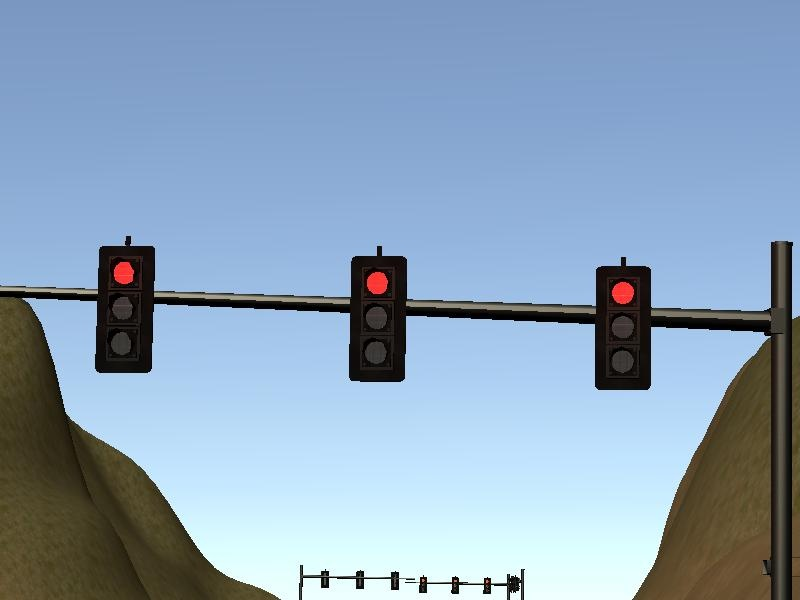RED: (95, 245, 154, 372), (347, 256, 406, 383), (593, 265, 652, 392)
